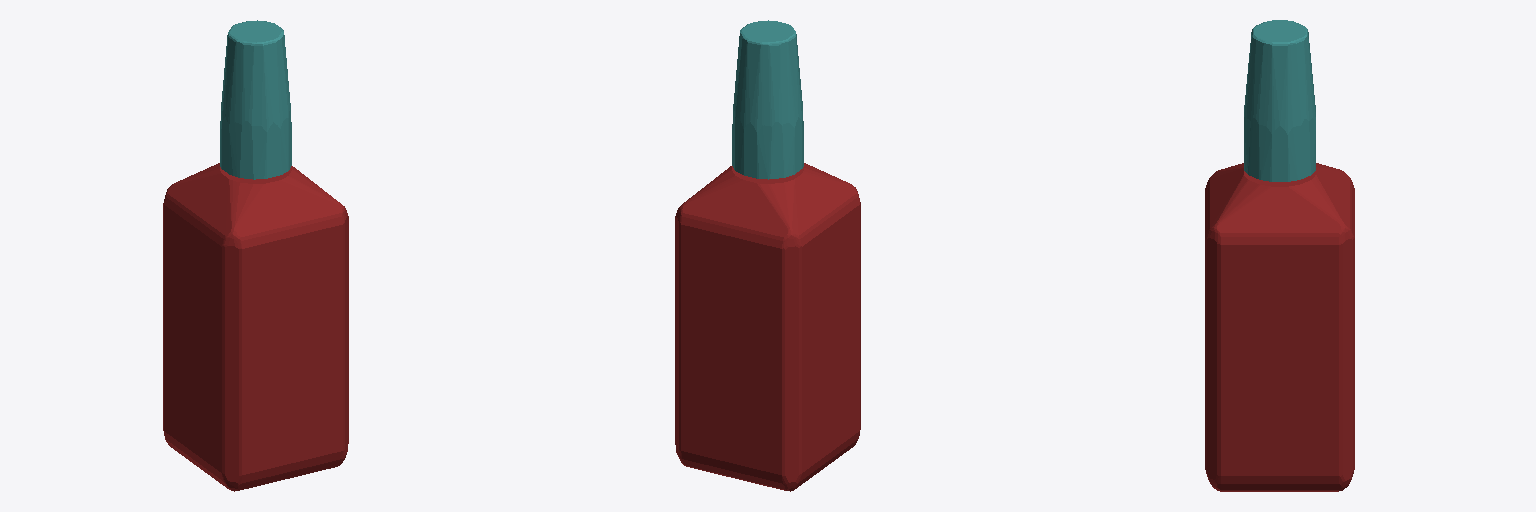
The robot description file, URDF, robot "root":
<robot name="root">
  <link name="bottle_body">
    <inertial>
      <origin xyz="0 0 0" rpy="0 0 0"/>
    </inertial>
    <mass value="1.00E-02"/>
    <visual>
      <origin xyz="0 0 0" rpy="0 0 0"/>
      <geometry>
        <mesh filename="core-bottle-f4851a2835228377e101b7546e3ee8a7-coacd_convex_piece_1.obj" scale="1.0000E-01 1.0000E-01 1.0000E-01"/>
      </geometry>
      <material name="">
        <color rgba="6.00E-01 2.00E-01 2.00E-01 1"/>
      </material>
    </visual>
    <collision>
      <origin xyz="0 0 0" rpy="0 0 0"/>
      <geometry>
        <mesh filename="core-bottle-f4851a2835228377e101b7546e3ee8a7-coacd_convex_piece_1.obj" scale="1.0000E-01 1.0000E-01 1.0000E-01"/>
      </geometry>
    </collision>
  </link>
  <link name="bottle_cap">
    <origin xyz="0 0 0.002" rpy="0 0 0"/>
    <mass value="1.00E-02"/>
    <visual>
      <origin xyz="0 0 0.002" rpy="0 0 0"/>
      <geometry>
        <mesh filename="core-bottle-f4851a2835228377e101b7546e3ee8a7-coacd_convex_piece_0.obj" scale="1.0000E-01 1.0000E-01 1.0000E-01"/>
      </geometry>
      <material name="">
        <color rgba="3.00E-01 6.00E-01 6.00E-01 1"/>
      </material>
    </visual>
    <collision>
      <origin xyz="0 0 0.002" rpy="0 0 0"/>
      <geometry>
        <mesh filename="core-bottle-f4851a2835228377e101b7546e3ee8a7-coacd_convex_piece_0.obj" scale="1.0000E-01 1.0000E-01 1.0000E-01"/>
      </geometry>
    </collision>
  </link>
  <joint name="bottle_cap_joint" type="revolute">
    <origin xyz="0 0 0" rpy="0 0 0"/>
    <parent link="bottle_body"/>
    <child link="bottle_cap"/>
    <axis xyz="0 0 1"/>
    <limit lower="0.00" upper="6.28"/>
    <dynamics damping="0.05"/>
  </joint>
</robot>

--- Facts derived from the render (not from the file) ---
Views: 3 orthographic renders of the robot side by side, from view 1: azimuth 30°, elevation 25°; view 2: azimuth 150°, elevation 25°; view 3: azimuth 270°, elevation 25°.
Robot: root — 2 links, 1 joints (1 revolute); root link bottle_body; default pose: all joints at 0.
Links seen in each view (by area): view 1: bottle_body, bottle_cap; view 2: bottle_body, bottle_cap; view 3: bottle_body, bottle_cap.
Boxes of the visible links, bbox=[...] form: bottle_body: bbox=[163, 163, 348, 491]; bottle_cap: bbox=[220, 20, 291, 179]; bottle_body: bbox=[675, 163, 860, 491]; bottle_cap: bbox=[732, 20, 803, 179]; bottle_body: bbox=[1205, 163, 1354, 491]; bottle_cap: bbox=[1244, 20, 1315, 181].
Size in the robot's own frame: 0.058 by 0.058 by 0.1858 metres.
Meshes: 2 distinct files referenced, 2 mesh visuals loaded (2 OBJ).